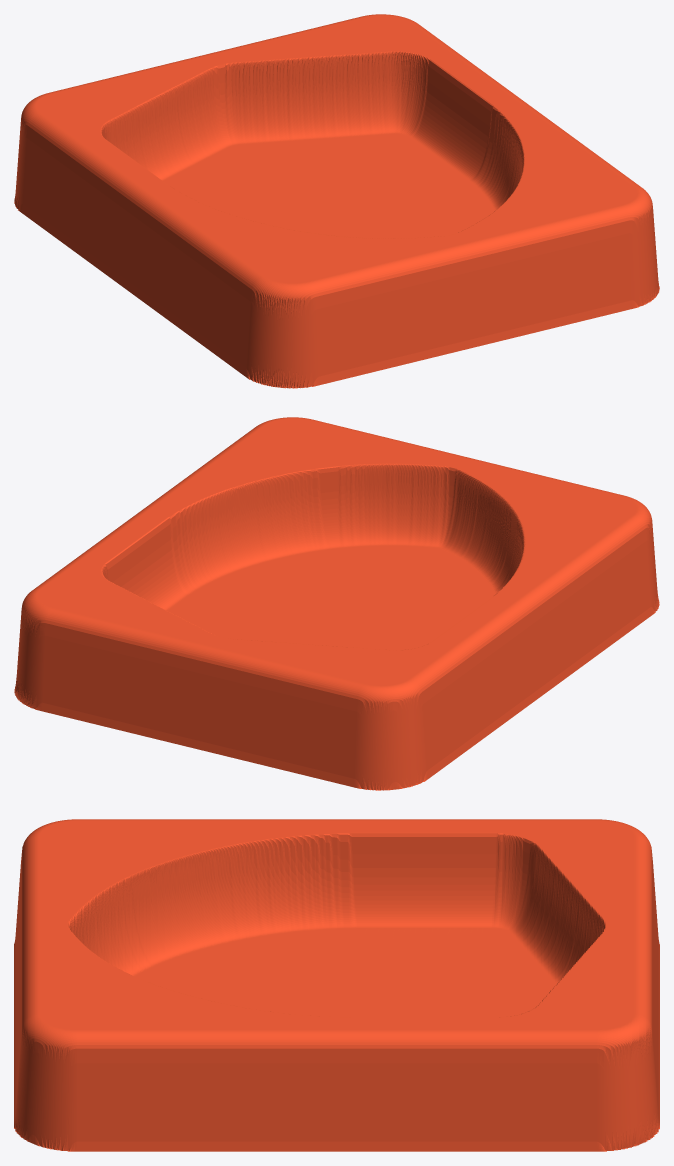
Rendered from mold.glb.
The picture shows the model from 3 angles, top to bottom: view 1: azimuth 30°, elevation 25°; view 2: azimuth 150°, elevation 25°; view 3: azimuth 270°, elevation 25°; orthographic projection. The views are drawn at different scales.
Parts seen in each view (by area): view 1: geometry_0; view 2: geometry_0; view 3: geometry_0.
Boxes of the visible parts, box(x1,y1,x2,y2) form: geometry_0: box(14, 14, 659, 388); geometry_0: box(14, 417, 659, 790); geometry_0: box(14, 819, 659, 1151).
Size of the model in its own units: 0.078 by 0.0175 by 0.0924.
